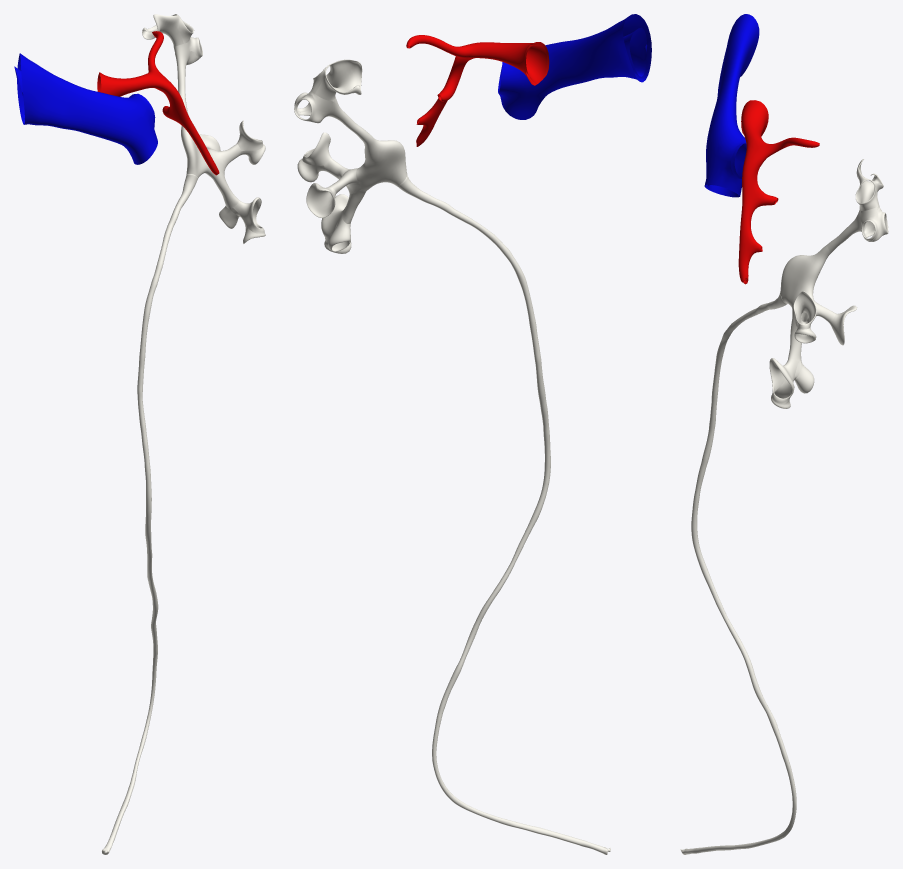
Rendered from 3d-vh-f-kidney-l-landmark.fbx.
3 views of the same model, side by side, from view 1: azimuth 30°, elevation 25°; view 2: azimuth 150°, elevation 25°; view 3: azimuth 270°, elevation 25° (orthographic). The views are drawn at different scales.
Parts seen in each view (by area): view 1: VH_F_kidney_L_landmark_renal_vein, VH_F_kidney_L_landmark_left_ureter, VH_F_kidney_L_landmark_minor_calyxes, VH_F_kidney_L_landmark_renal_artery, VH_F_kidney_L_landmark_major_calyxes, VH_F_kidney_L_landmark_renal_pelvis; view 2: VH_F_kidney_L_landmark_renal_vein, VH_F_kidney_L_landmark_left_ureter, VH_F_kidney_L_landmark_minor_calyxes, VH_F_kidney_L_landmark_renal_artery, VH_F_kidney_L_landmark_renal_pelvis, VH_F_kidney_L_landmark_major_calyxes; view 3: VH_F_kidney_L_landmark_renal_vein, VH_F_kidney_L_landmark_minor_calyxes, VH_F_kidney_L_landmark_left_ureter, VH_F_kidney_L_landmark_renal_artery, VH_F_kidney_L_landmark_renal_pelvis, VH_F_kidney_L_landmark_major_calyxes.
Part boxes in pixels (<box>): VH_F_kidney_L_landmark_renal_vein: <box>14,53,157,164</box>; VH_F_kidney_L_landmark_left_ureter: <box>102,174,197,854</box>; VH_F_kidney_L_landmark_minor_calyxes: <box>142,14,265,243</box>; VH_F_kidney_L_landmark_renal_artery: <box>97,31,219,175</box>; VH_F_kidney_L_landmark_major_calyxes: <box>174,42,241,209</box>; VH_F_kidney_L_landmark_renal_pelvis: <box>181,102,213,178</box>; VH_F_kidney_L_landmark_renal_vein: <box>498,14,651,119</box>; VH_F_kidney_L_landmark_left_ureter: <box>397,175,610,854</box>; VH_F_kidney_L_landmark_minor_calyxes: <box>294,59,362,253</box>; VH_F_kidney_L_landmark_renal_artery: <box>406,35,549,146</box>; VH_F_kidney_L_landmark_renal_pelvis: <box>356,132,407,191</box>; VH_F_kidney_L_landmark_major_calyxes: <box>324,97,368,223</box>; VH_F_kidney_L_landmark_renal_vein: <box>704,14,759,197</box>; VH_F_kidney_L_landmark_minor_calyxes: <box>769,159,888,408</box>; VH_F_kidney_L_landmark_left_ureter: <box>680,293,796,854</box>; VH_F_kidney_L_landmark_renal_artery: <box>738,100,819,284</box>; VH_F_kidney_L_landmark_renal_pelvis: <box>780,245,830,319</box>; VH_F_kidney_L_landmark_major_calyxes: <box>788,209,867,361</box>.
Size of the model in its own units: 10.45 by 28.32 by 6.57.
